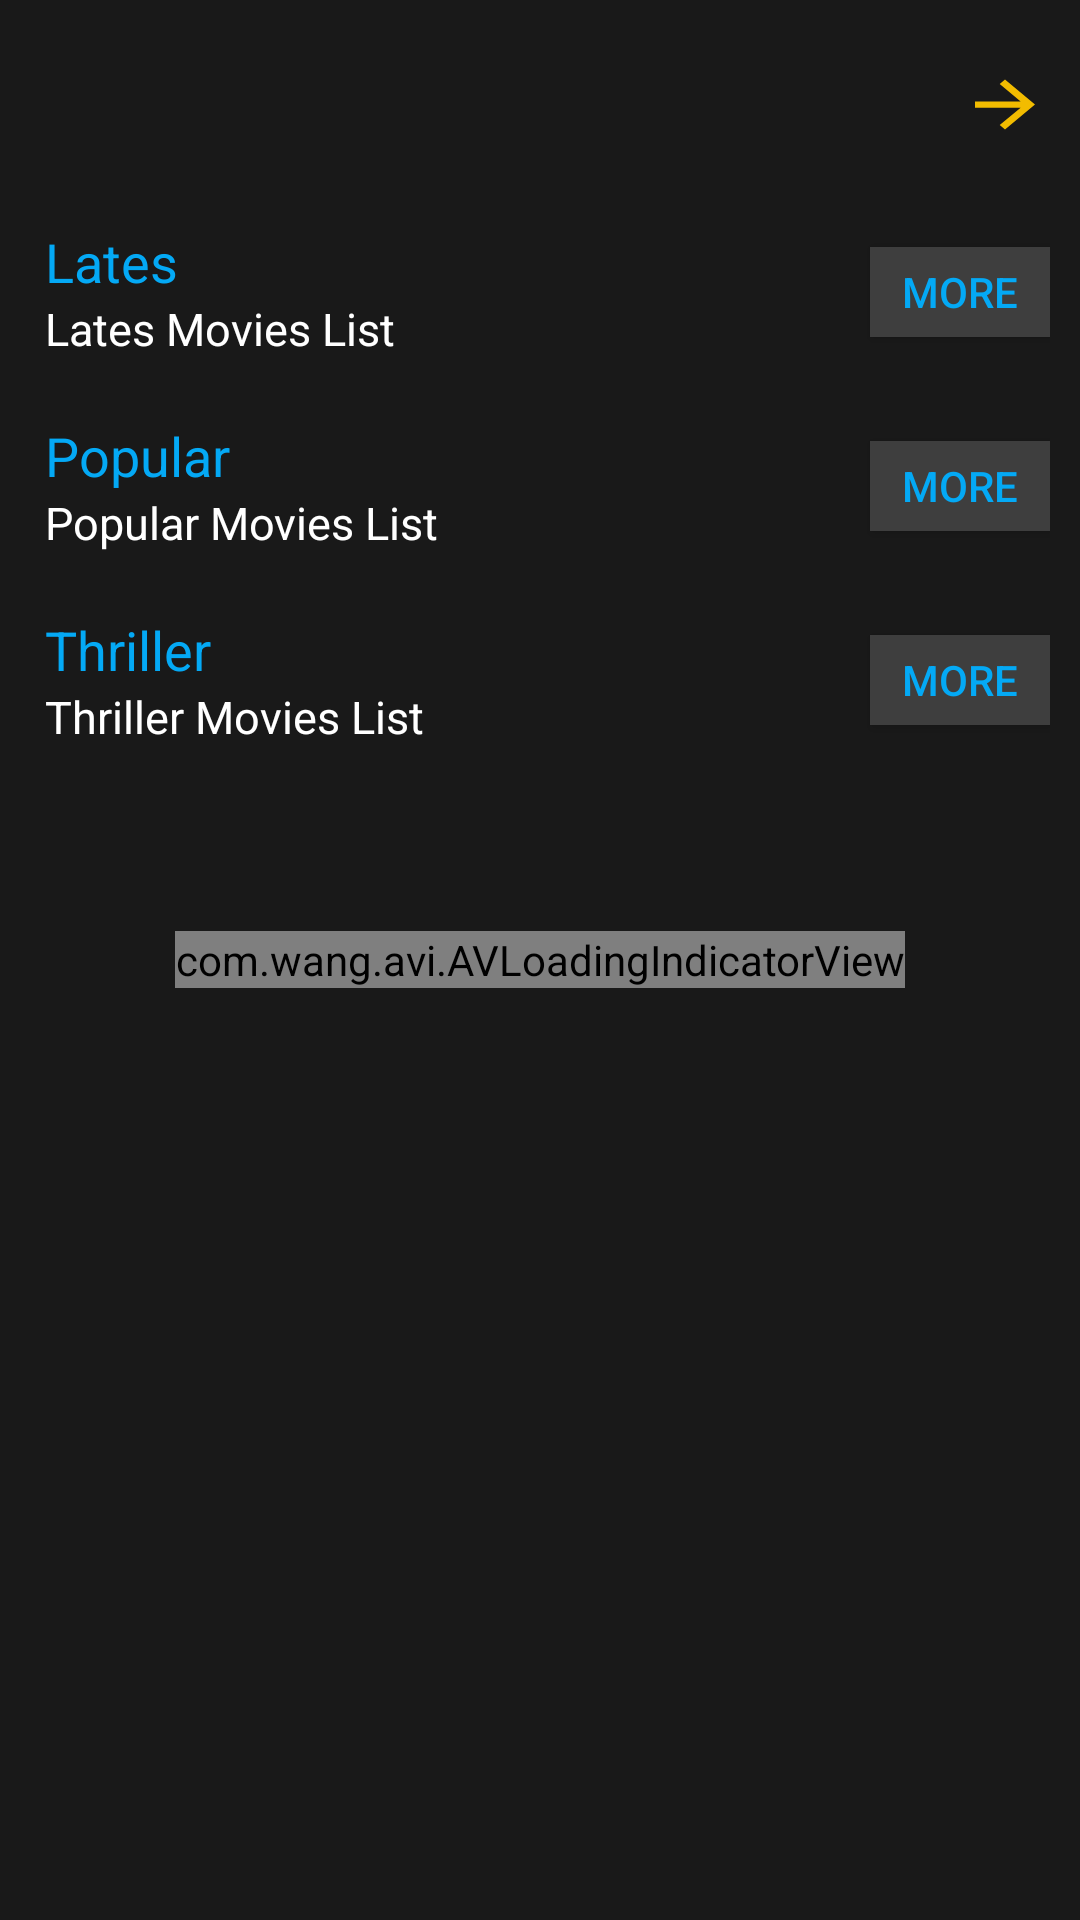

Where to tap for icons on this 1080w x 1920h app screen, as point (x, y):
arrow forward: point (1005, 104)
